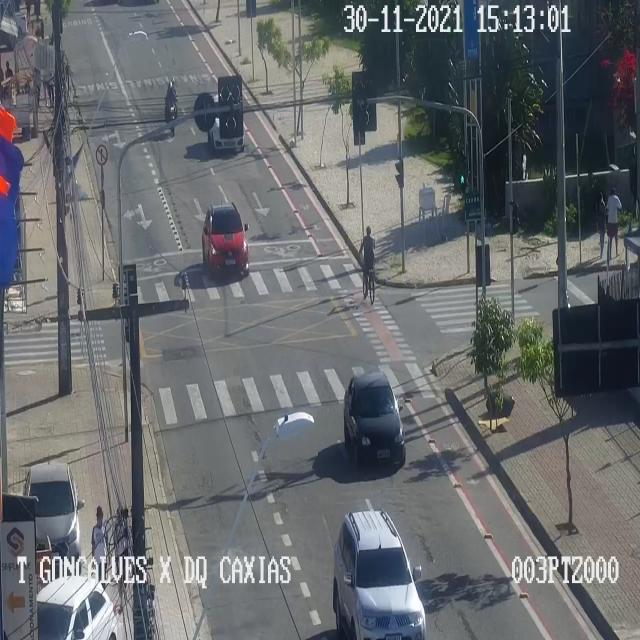Car: (333, 509, 425, 639), (24, 462, 80, 572), (344, 372, 404, 464), (36, 575, 116, 639), (202, 203, 248, 274), (207, 94, 243, 150)
Motorcycle: (165, 77, 178, 136)
